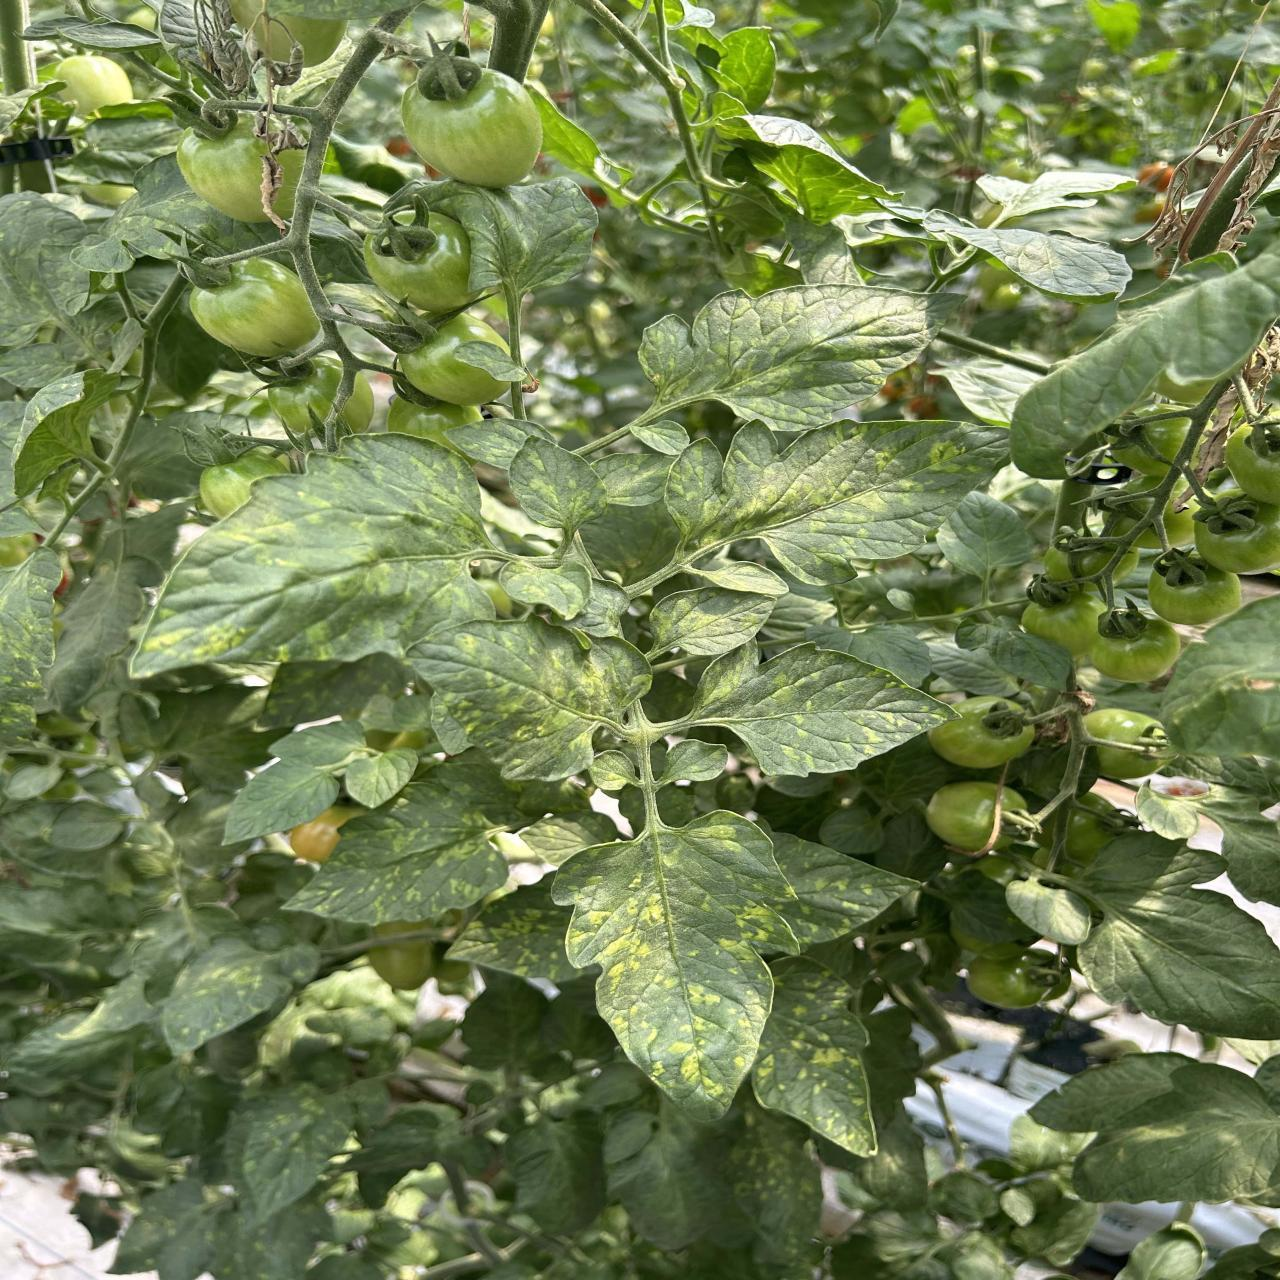Rugose leaf: (130, 435, 489, 678), (552, 792, 798, 1118), (662, 421, 1001, 581), (631, 285, 954, 444), (410, 618, 651, 781), (285, 761, 518, 924), (688, 642, 956, 777), (416, 178, 598, 358), (750, 969, 876, 1156), (76, 155, 256, 272), (716, 1096, 823, 1273), (157, 938, 319, 1054), (224, 720, 362, 844), (238, 1084, 356, 1227), (771, 832, 918, 945), (925, 220, 1132, 299), (448, 878, 583, 981), (13, 369, 120, 497), (0, 547, 62, 750), (0, 192, 89, 322), (509, 438, 610, 542), (210, 1194, 331, 1280), (649, 587, 774, 660), (499, 560, 591, 620), (444, 418, 540, 471), (345, 748, 417, 808), (0, 343, 75, 392), (661, 740, 728, 782), (590, 750, 639, 791)
Rugose tomato: (401, 70, 542, 188), (190, 259, 319, 358), (365, 213, 472, 312), (399, 313, 509, 406), (177, 123, 266, 222), (928, 696, 1035, 768), (1193, 490, 1280, 574), (1088, 612, 1182, 682), (199, 448, 290, 517), (1084, 703, 1165, 779), (1149, 563, 1242, 626), (1021, 590, 1105, 656), (268, 356, 341, 433), (926, 782, 996, 852), (387, 395, 482, 443), (967, 956, 1054, 1008), (273, 149, 306, 219), (341, 375, 374, 431), (1002, 788, 1026, 823)
